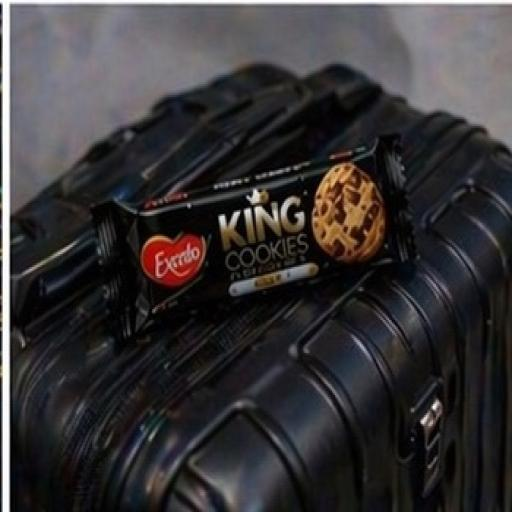king_cooking: (80, 89, 470, 378)
